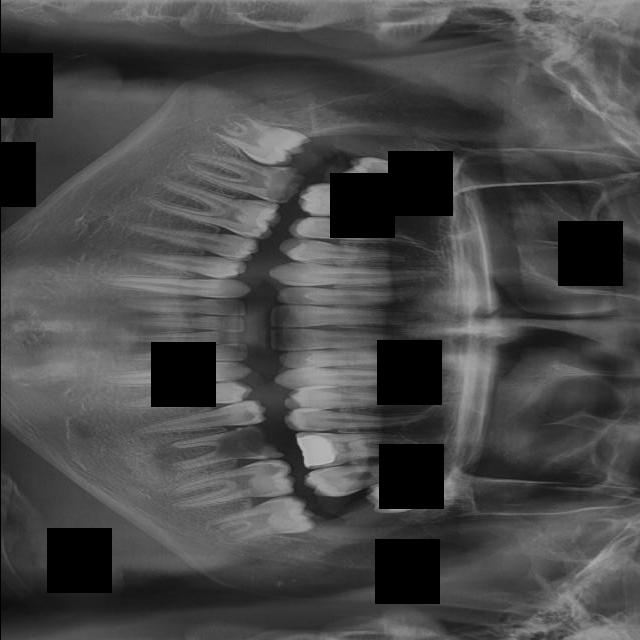NucleOSS Implant: (297, 433, 338, 469)
Sterngold Implant: (213, 425, 283, 462), (263, 165, 305, 204), (250, 461, 290, 479), (232, 410, 264, 427), (254, 202, 272, 211), (303, 424, 316, 433)
